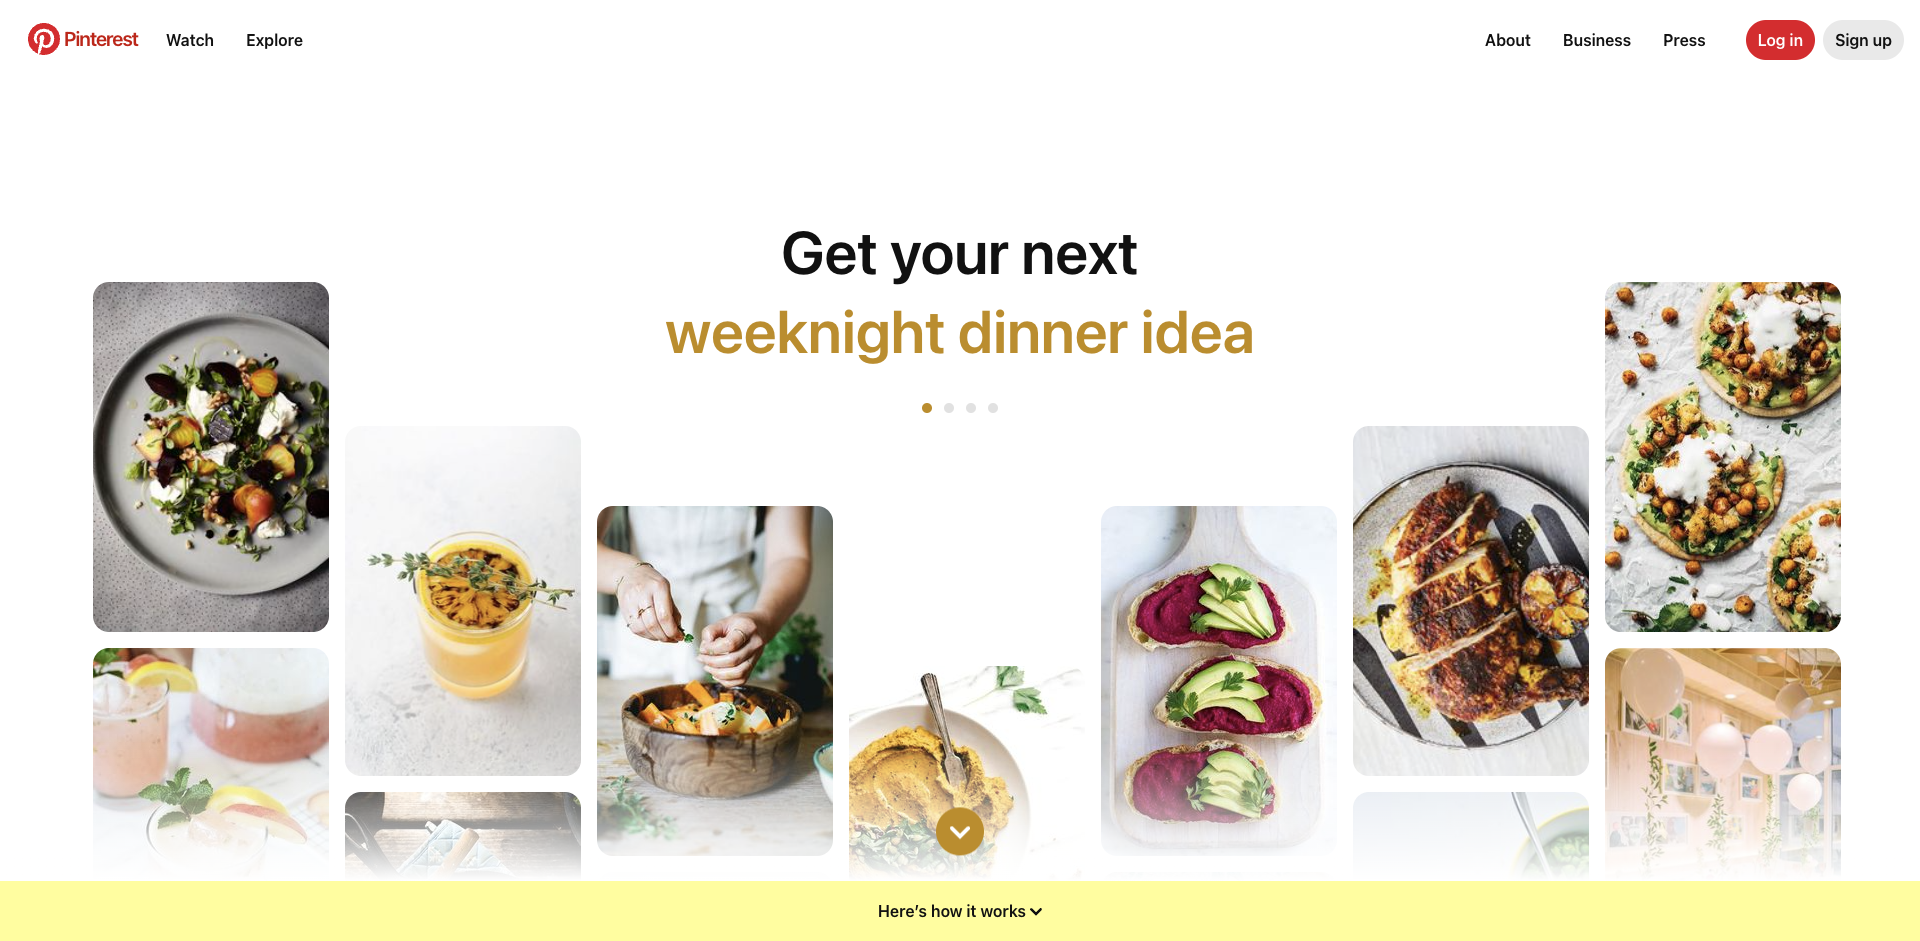button: (0, 902, 1920, 920), (16, 22, 149, 58), (1823, 20, 1904, 60), (1746, 20, 1815, 60), (936, 817, 984, 865), (916, 397, 938, 423), (938, 397, 960, 423), (960, 397, 982, 423), (982, 397, 1004, 423)
link: (230, 16, 320, 64), (16, 22, 149, 54), (149, 16, 230, 64), (1562, 31, 1631, 49), (1485, 31, 1531, 49), (1663, 31, 1706, 49)
